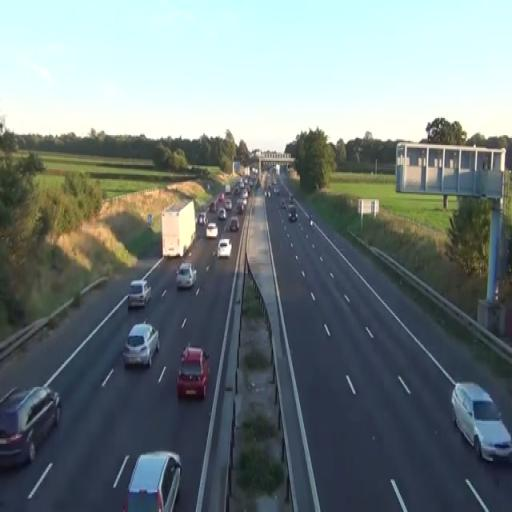Car: (0, 384, 62, 470), (450, 381, 512, 464), (123, 451, 183, 512), (176, 345, 210, 400), (122, 321, 160, 369), (128, 278, 153, 309), (175, 262, 197, 290), (218, 238, 232, 260), (206, 223, 218, 238), (229, 218, 239, 232)
Truck: (162, 201, 196, 260)
